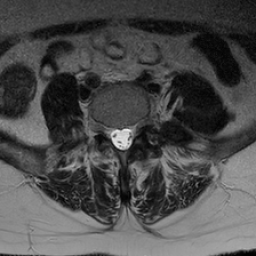CCS_normal: (117, 117, 125, 160)
LFS_normal: (133, 110, 141, 142)
LLS_normal: (125, 117, 133, 155)
RFS_normal: (101, 113, 109, 144)
RLS_normal: (109, 118, 117, 154)
